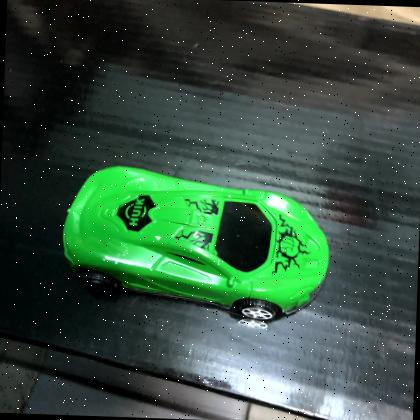Car: (62, 166, 330, 326)
